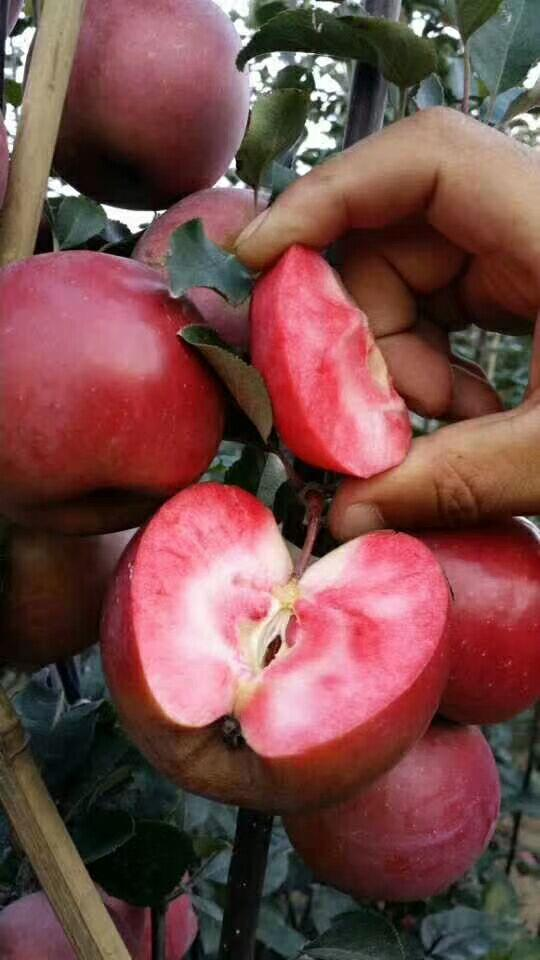apple: (101, 483, 448, 811), (1, 250, 224, 531), (23, 2, 249, 211), (283, 723, 500, 901), (412, 515, 540, 722)
